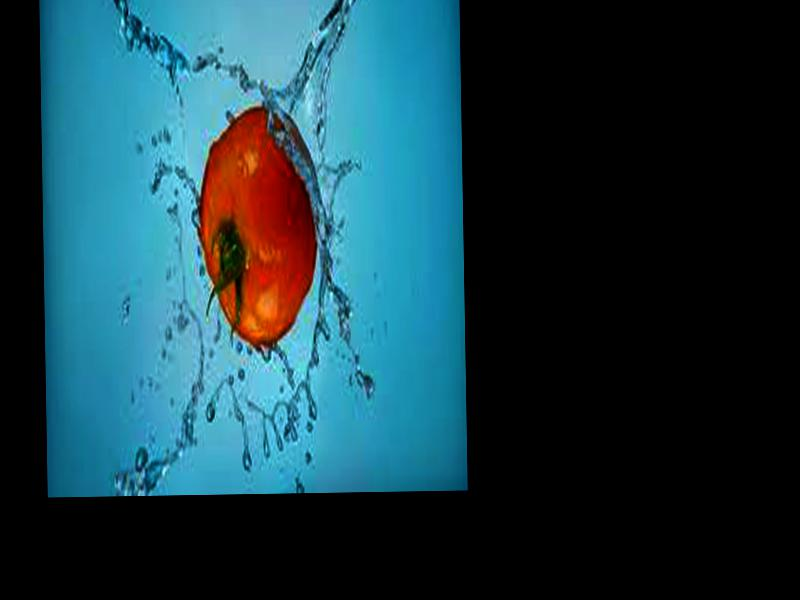Tomato: (198, 106, 320, 349)
